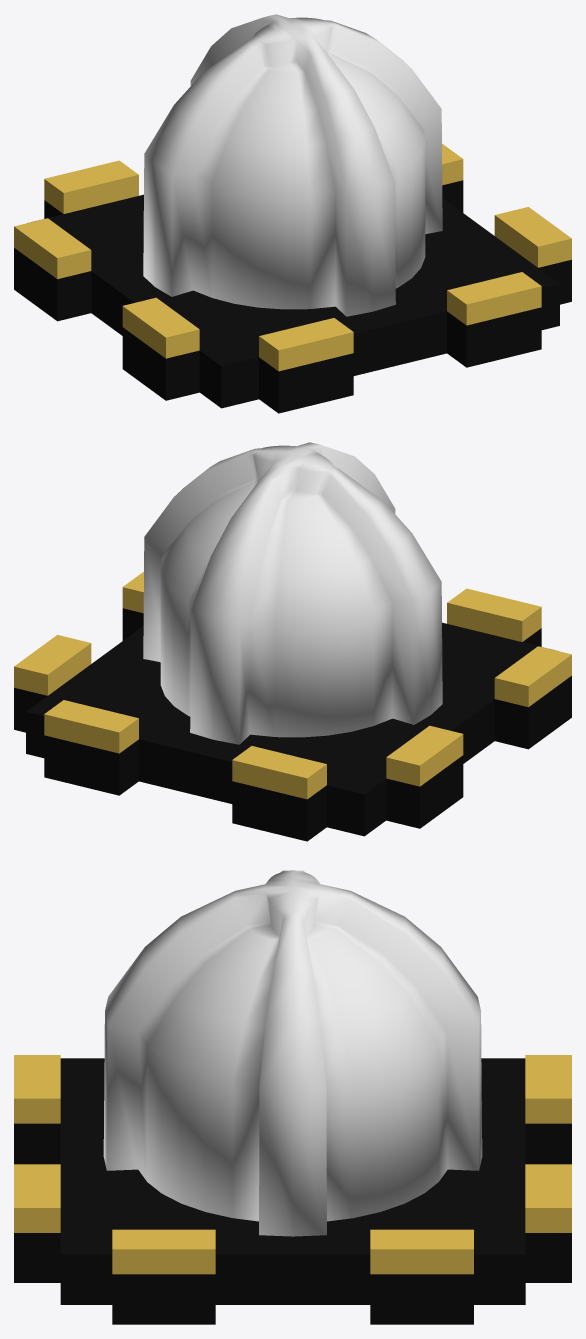
The model's file is foco_base.glb.
The picture shows the model from 3 angles, top to bottom: view 1: azimuth 30°, elevation 25°; view 2: azimuth 150°, elevation 25°; view 3: azimuth 270°, elevation 25°; orthographic projection. The views are drawn at different scales.
Parts seen in each view (by area): view 1: Glass, Base2; view 2: Glass, Base2; view 3: Glass, Base2.
Boxes of the visible parts, x1,y1,x2,y2 form: Glass: [143, 14, 442, 316]; Base2: [14, 143, 571, 413]; Glass: [143, 442, 442, 744]; Base2: [14, 571, 571, 841]; Glass: [103, 870, 482, 1236]; Base2: [14, 1055, 571, 1324].
Size of the model in its own units: 3.54 by 2.24 by 3.54.
